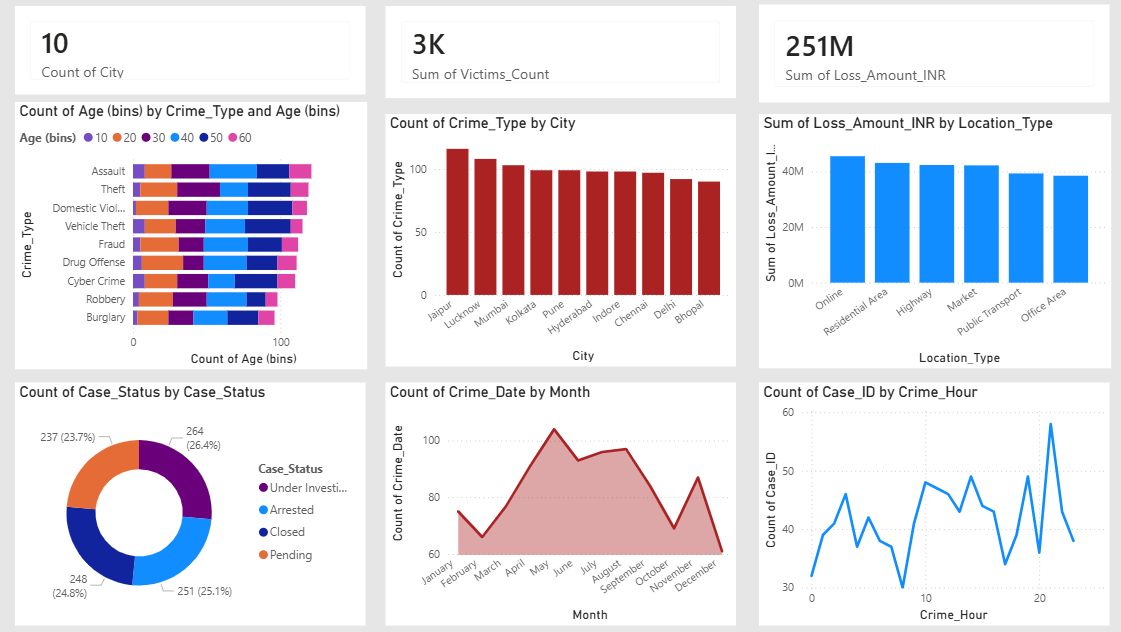

This screenshot's page, from the dashboard's own definition file:
{"tool":"powerbi","page":{"name":"Crime Analysis Page 1","canvas":[1280,720],"ordinal":0},"visuals":[{"type":"columnChart","fields":{"Category":["crime_data_1000_records.City"],"Y":["CountNonNull(crime_data_1000_records.Crime_Type)"]},"box":[442.6,131.9,395.7,285.1],"z":0},{"type":"areaChart","fields":{"Category":["crime_data_1000_records.Crime_Date.Variation.Date Hierarchy.Month"],"Y":["CountNonNull(crime_data_1000_records.Crime_Date)"]},"box":[442.6,436.2,395.7,274.5],"z":1000},{"type":"donutChart","fields":{"Category":["crime_data_1000_records.Case_Status"],"Y":["CountNonNull(crime_data_1000_records.Case_Status)"]},"box":[23.4,436.2,395.7,274.5],"z":2000},{"type":"barChart","fields":{"Category":["crime_data_1000_records.Crime_Type"],"Y":["CountNonNull(crime_data_1000_records.Age (bins))"],"Series":["crime_data_1000_records.Age (bins)"]},"box":[23.4,119.1,397.9,302.1],"z":3000},{"type":"lineChart","fields":{"Category":["crime_data_1000_records.Crime_Hour"],"Y":["CountNonNull(crime_data_1000_records.Case_ID)"]},"box":[863.8,436.2,395.7,274.5],"z":4000},{"type":"columnChart","fields":{"Y":["Sum(crime_data_1000_records.Loss_Amount_INR)"],"Category":["crime_data_1000_records.Location_Type"]},"box":[863.8,131.9,397.9,287.2],"z":5000},{"type":"cardVisual","fields":{"Data":["Sum(crime_data_1000_records.Loss_Amount_INR)"]},"box":[863.8,8.5,395.7,110.6],"z":6000},{"type":"cardVisual","fields":{"Data":["Sum(crime_data_1000_records.Victims_Count)"]},"box":[442.6,10.6,395.7,104.3],"z":7000},{"type":"cardVisual","fields":{"Data":["Count(crime_data_1000_records.City)"]},"box":[23.4,10.6,395.7,100],"z":8000}]}

Visuals, with their boxes in screenshot pixels (x1, y1, x2, y2), scaled from the page's 1280x720 canvas onto the 1121x632 screenshot:
columnChart - crime_data_1000_records.City x CountNonNull(crime_data_1000_records.Crime_Type): <box>388,116,734,366</box>
areaChart - crime_data_1000_records.Crime_Date.Variation.Date Hierarchy.Month x CountNonNull(crime_data_1000_records.Crime_Date): <box>388,383,734,624</box>
donutChart - crime_data_1000_records.Case_Status x CountNonNull(crime_data_1000_records.Case_Status): <box>20,383,367,624</box>
barChart - crime_data_1000_records.Crime_Type x CountNonNull(crime_data_1000_records.Age (bins)): <box>20,105,369,370</box>
lineChart - crime_data_1000_records.Crime_Hour x CountNonNull(crime_data_1000_records.Case_ID): <box>756,383,1103,624</box>
columnChart - Sum(crime_data_1000_records.Loss_Amount_INR) x crime_data_1000_records.Location_Type: <box>756,116,1105,368</box>
cardVisual - Sum(crime_data_1000_records.Loss_Amount_INR): <box>756,7,1103,105</box>
cardVisual - Sum(crime_data_1000_records.Victims_Count): <box>388,9,734,101</box>
cardVisual - Count(crime_data_1000_records.City): <box>20,9,367,97</box>
